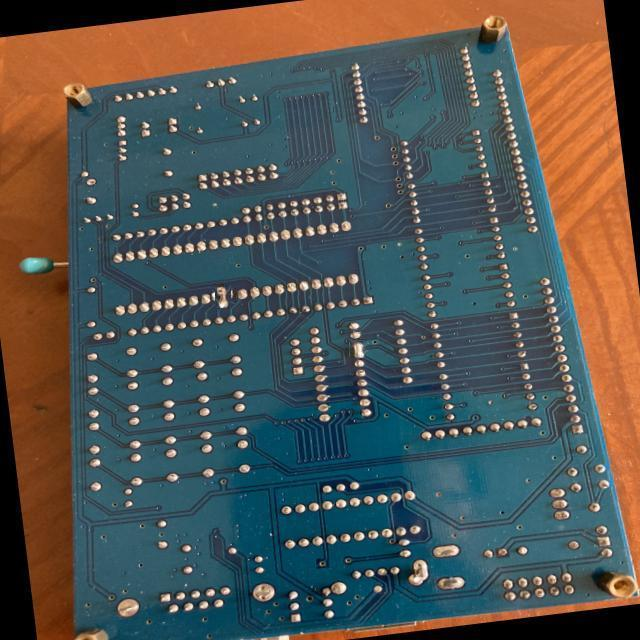damged: (213, 286, 234, 306), (349, 339, 366, 358)
